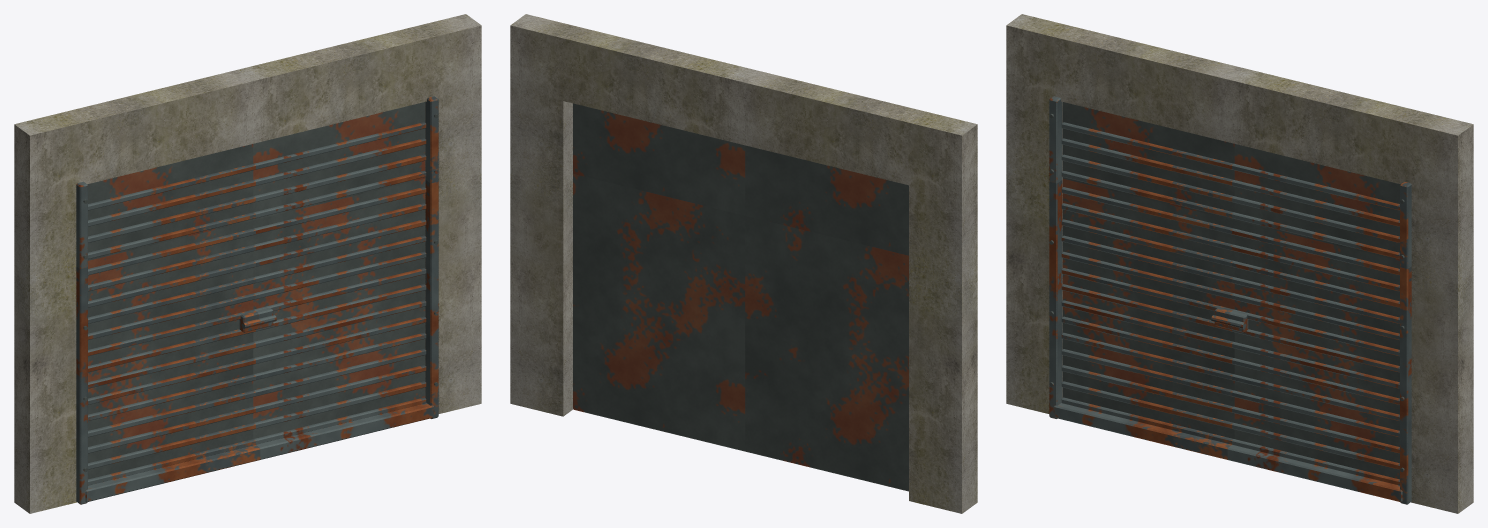
File: wall_garage_refined.glb
The picture shows the model from 3 angles, left to right: view 1: azimuth 30°, elevation 25°; view 2: azimuth 150°, elevation 25°; view 3: azimuth 330°, elevation 25°; orthographic projection.
Visible parts, largest first — view 1: Garage front | concrete_combined.001, Garage front | roof_combined.001, Garage front | steel_combined.001; view 2: Garage front | roof_combined.001, Garage front | concrete_combined.001; view 3: Garage front | concrete_combined.001, Garage front | roof_combined.001, Garage front | steel_combined.001.
Boxes of the visible parts, x1,y1,x2,y2 form: Garage front | concrete_combined.001: (14,14,481,513); Garage front | roof_combined.001: (83,102,438,479); Garage front | steel_combined.001: (76,96,438,504); Garage front | roof_combined.001: (573,103,908,491); Garage front | concrete_combined.001: (510,14,977,513); Garage front | concrete_combined.001: (1006,14,1473,513); Garage front | roof_combined.001: (1049,102,1404,479); Garage front | steel_combined.001: (1049,96,1411,504).
Bounding box in the file's own units: 4 × 3.2 × 0.327.
3 materials, 3 textured.
